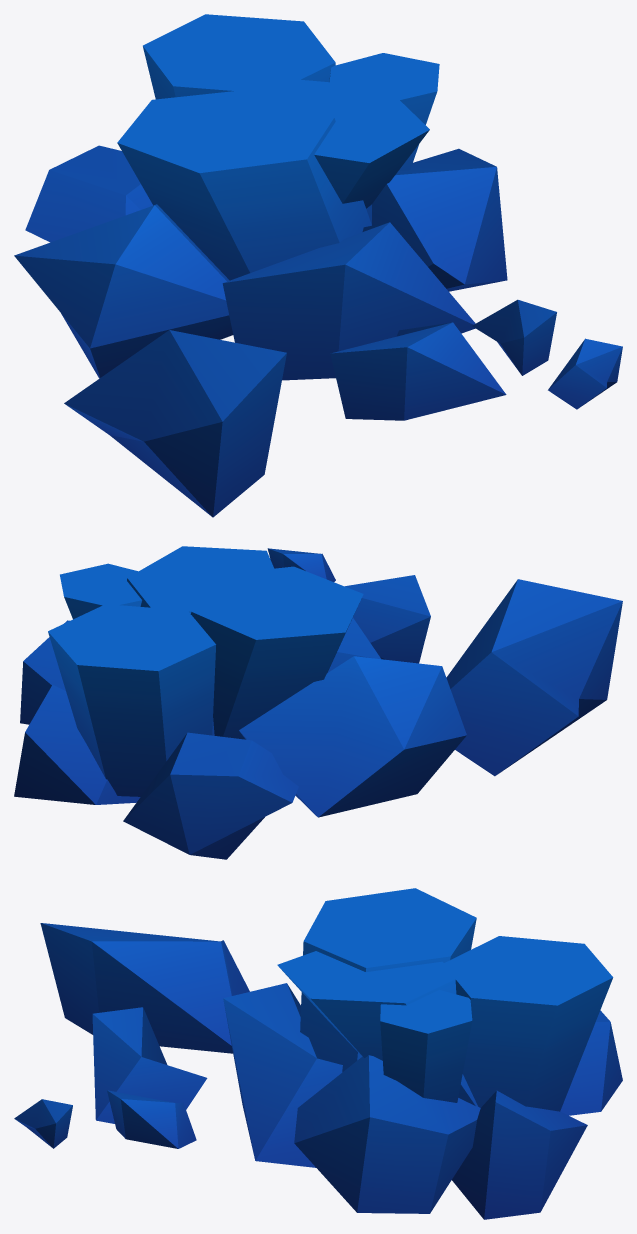
File: M_Half_diamond.fbx
3 renders of one model, top to bottom at view 1: azimuth 30°, elevation 25°; view 2: azimuth 150°, elevation 25°; view 3: azimuth 270°, elevation 25°, orthographic. The views are drawn at different scales.
Parts seen in each view (by area): view 1: M_diamond; view 2: M_diamond; view 3: M_diamond.
Boxes of the visible parts, x1,y1,x2,y2 form: M_diamond: (14,14,622,517); M_diamond: (14,546,622,859); M_diamond: (14,888,622,1219).
Size of the model in its own units: 105 by 43.64 by 119.
1 material, 1 textured.
